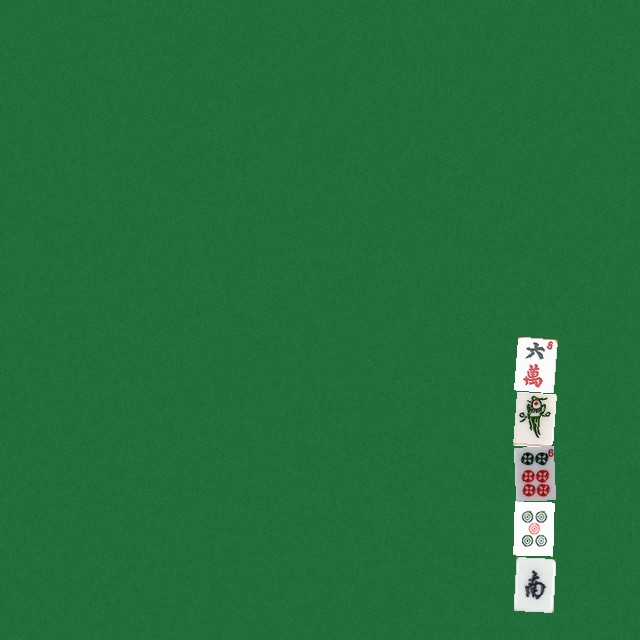tile: (513, 336, 553, 390), (513, 391, 553, 445), (513, 446, 553, 500), (513, 501, 553, 555), (513, 556, 553, 610)
